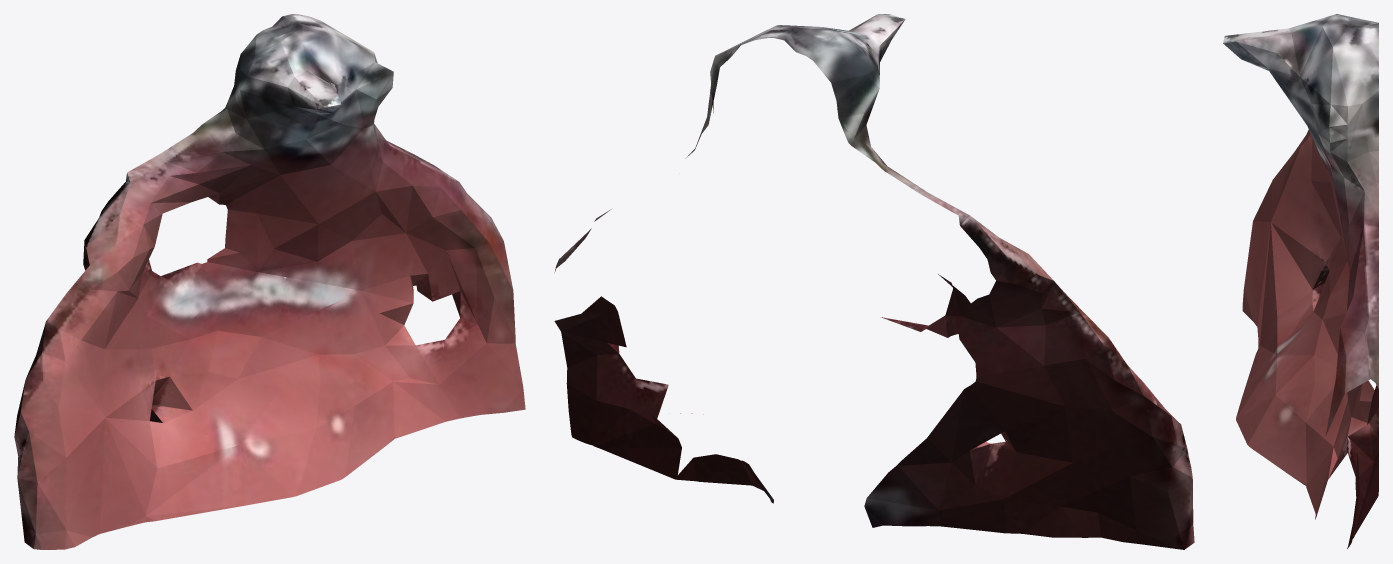
3 views of the same model, side by side, from view 1: azimuth 30°, elevation 25°; view 2: azimuth 150°, elevation 25°; view 3: azimuth 270°, elevation 25° (orthographic). The views are drawn at different scales.
Bounding box in the file's own units: 0.7492 × 0.5724 × 0.1906.
Materials: 2 (2 with a texture image).
